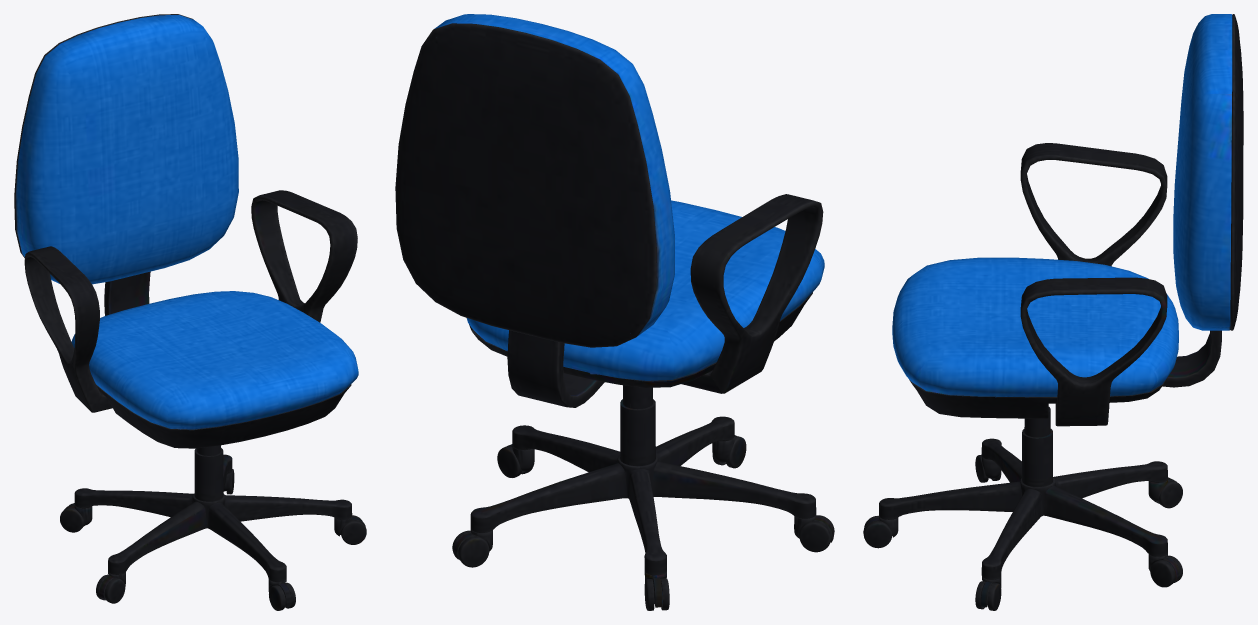
File: chair-4.glb
The picture shows the model from 3 angles, left to right: view 1: azimuth 30°, elevation 25°; view 2: azimuth 150°, elevation 25°; view 3: azimuth 270°, elevation 25°; orthographic projection. The views are drawn at different scales.
Visible parts, largest first — view 1: Chair_; view 2: Chair_; view 3: Chair_.
Boxes of the visible parts, <box> form: Chair_: <box>14,14,366,610</box>; Chair_: <box>395,14,834,610</box>; Chair_: <box>863,14,1243,610</box>.
Size of the model in its own units: 6.32 by 9.89 by 6.72.
1 material, 1 textured.
